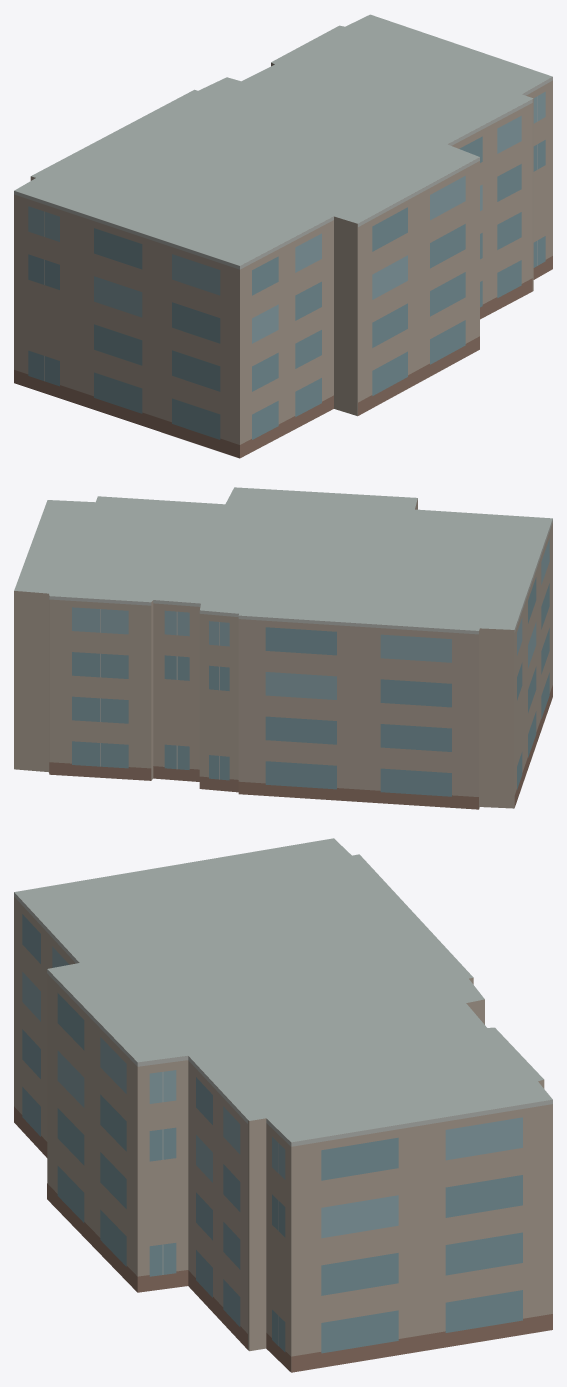
Rendered from survey-upis-32863915.glb.
3 renders of one model, top to bottom at view 1: azimuth 30°, elevation 25°; view 2: azimuth 150°, elevation 25°; view 3: azimuth 270°, elevation 25°, orthographic. The views are drawn at different scales.
Visible parts, largest first — view 1: survey-upis-32863915.tmp; view 2: survey-upis-32863915.tmp; view 3: survey-upis-32863915.tmp.
Part boxes in pixels (bbox=[...]): survey-upis-32863915.tmp: bbox=[14, 14, 552, 458]; survey-upis-32863915.tmp: bbox=[14, 487, 552, 809]; survey-upis-32863915.tmp: bbox=[14, 838, 552, 1372].
Size of the model in its own units: 36.14 by 12.75 by 27.05.
